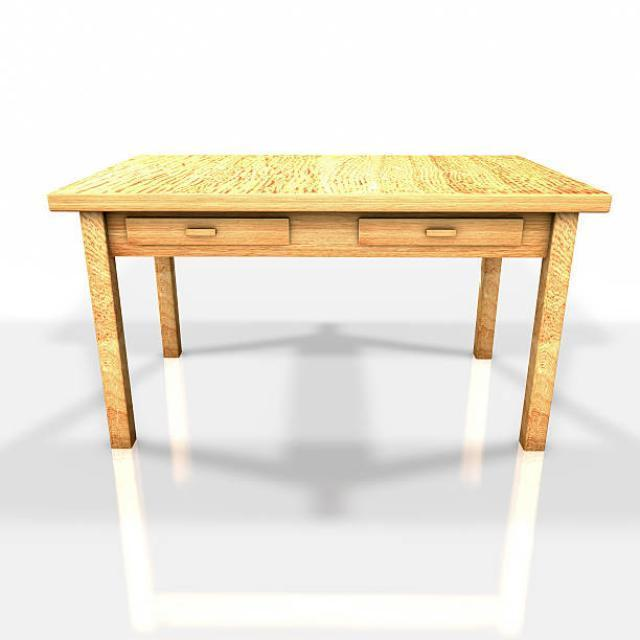table: (46, 152, 612, 454)
